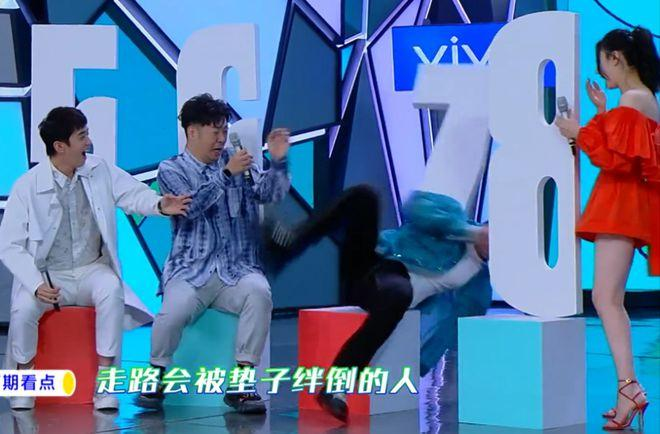bending: (3, 99, 156, 419), (138, 93, 289, 411)
down: (269, 181, 501, 413)
up: (547, 20, 660, 430)
